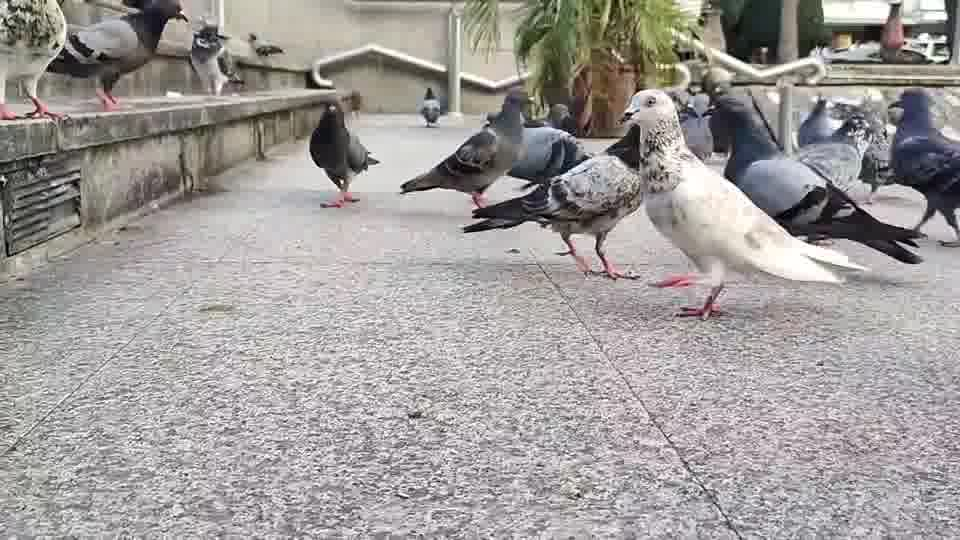Pigeon: (613, 87, 871, 321), (700, 92, 927, 265), (456, 123, 644, 282), (46, 0, 188, 112), (398, 92, 530, 211), (879, 86, 959, 246), (479, 92, 586, 189), (796, 96, 889, 204), (0, 0, 69, 124), (308, 102, 380, 208), (188, 15, 244, 96), (247, 32, 286, 57), (419, 86, 441, 127)
